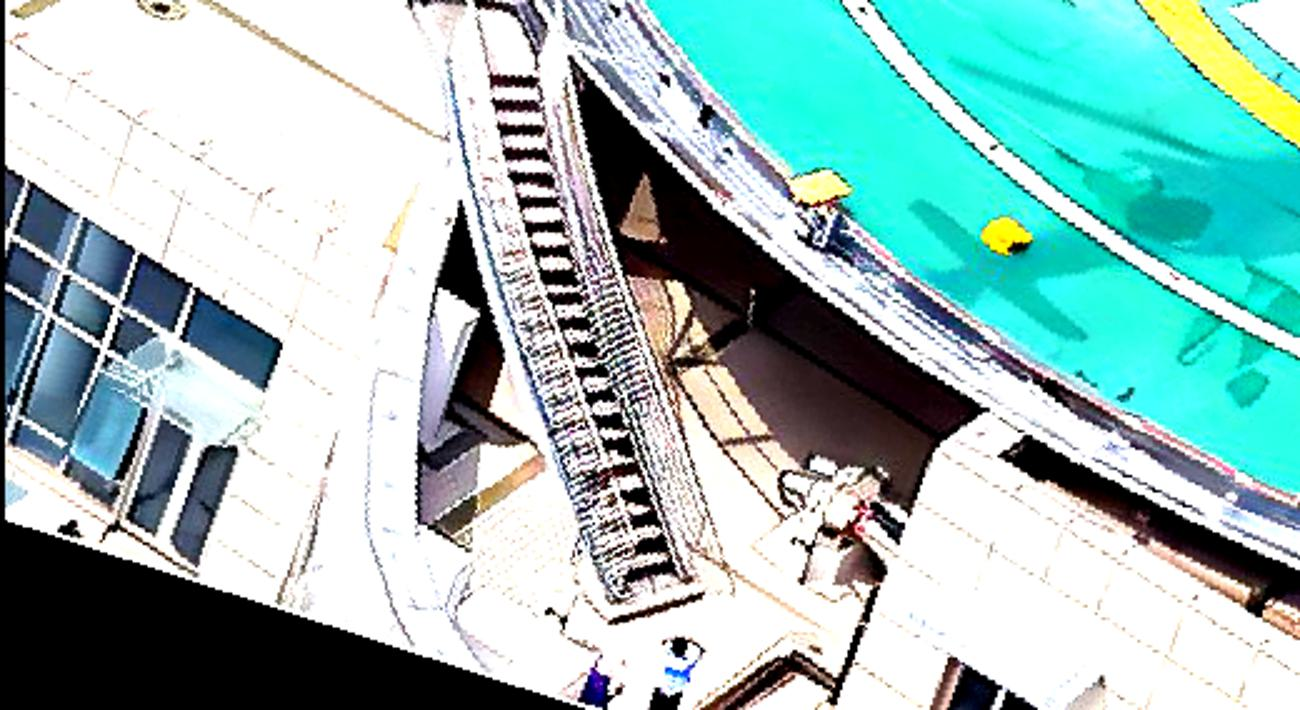Apron: (1103, 1, 1300, 165)
